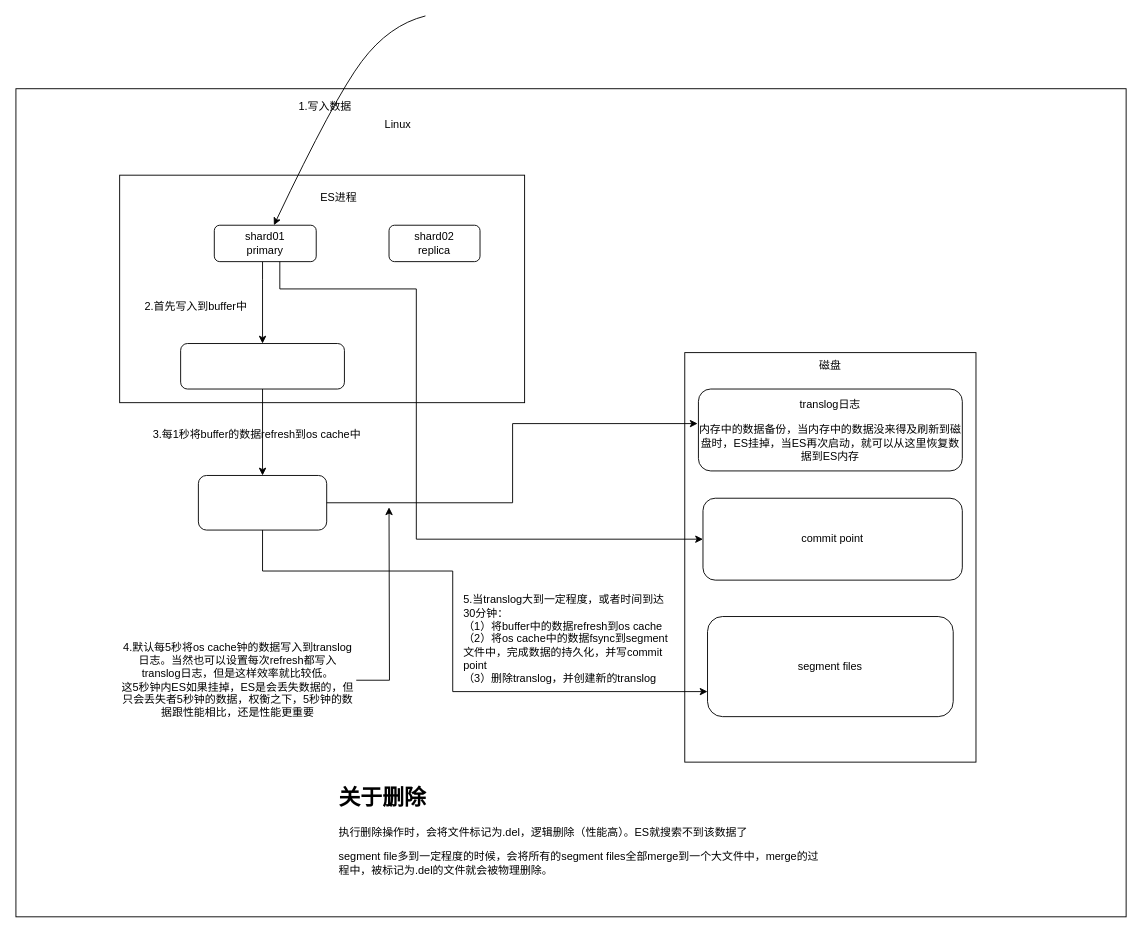
This 1142x933 diagram has some shape labels left out. The box of each missing label's shape, as (x1, y1, x2, y2) in pixels:
buffer（ES内存） 这里的数据不能被搜索到: (180, 343, 344, 389)
os cache（系统内存） 这里的数据能够被搜索到: (197, 475, 327, 530)
